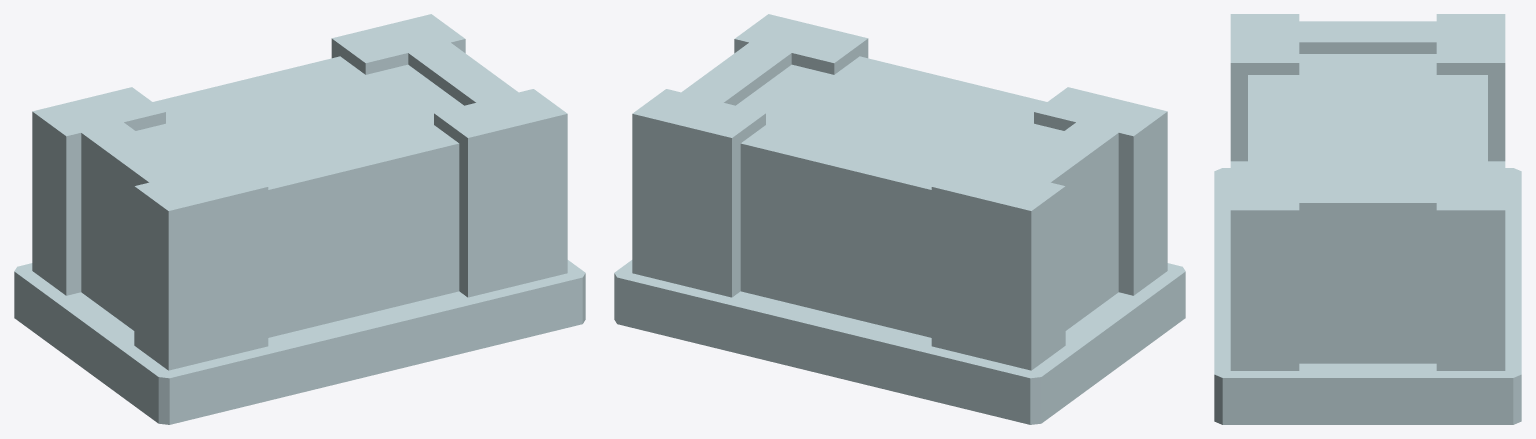
Rendered from altarStone.glb.
3 renders of one model, left to right at view 1: azimuth 30°, elevation 25°; view 2: azimuth 150°, elevation 25°; view 3: azimuth 270°, elevation 25°, orthographic.
Visible parts, largest first — view 1: altarStone; view 2: altarStone; view 3: altarStone.
Part boxes in pixels (x1=…): altarStone: x1=14, y1=14, x2=585, y2=424; altarStone: x1=614, y1=14, x2=1185, y2=424; altarStone: x1=1214, y1=14, x2=1521, y2=424.
Bounding box in the file's own units: 1.06 × 0.4876 × 0.6532.
